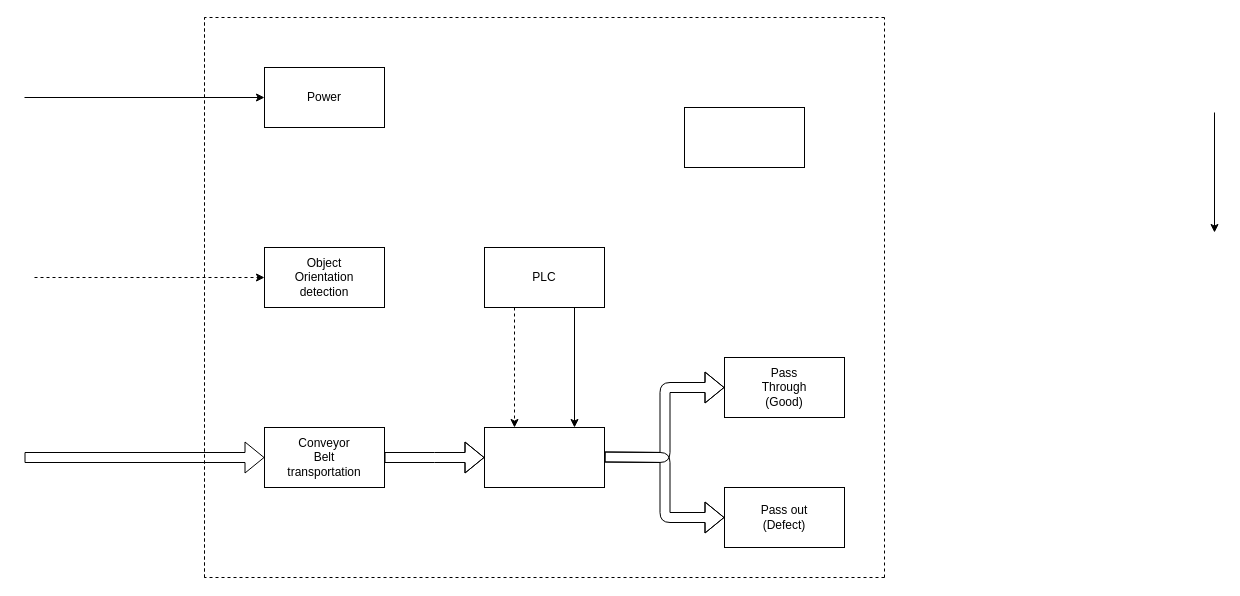
Some shapes in this 1240 by 596 pixel diagram are drawn without their labels. Each missing label, with the centre of its shape:
Emergency Stop: (744,137)
Separation: (544,457)
